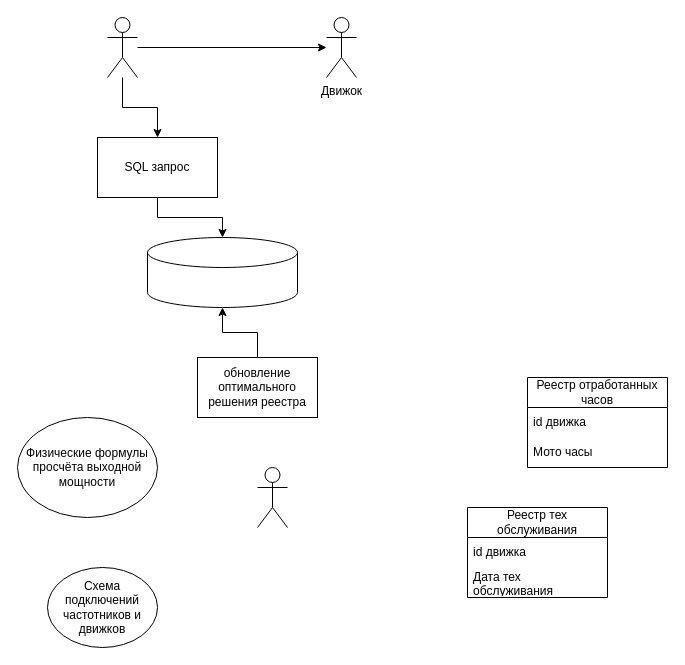
This 685x665 diagram has some shape labels left out. The shapes that lost their labels are listed below. From the top down, each one's centre as x and y in pixels, then its label:
At [122,47]: "Частотник".
At [222,272]: "Реест\текущих\новых состояний частотников".
At [272,497]: "Анализатор переключения".
